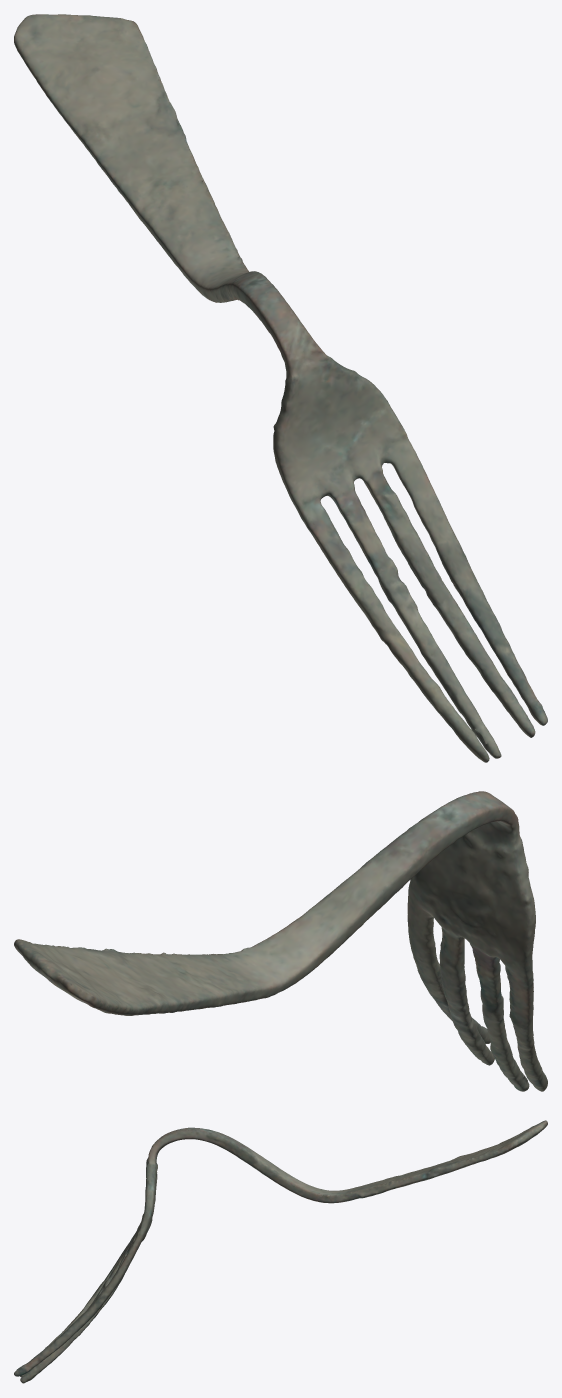
Rendered from Fork.fbx.
3 renders of one model, top to bottom at view 1: azimuth 30°, elevation 25°; view 2: azimuth 150°, elevation 25°; view 3: azimuth 270°, elevation 25°, orthographic. The views are drawn at different scales.
Parts seen in each view (by area): view 1: Treblinka 2017, Trench 11, Kuad 5 Sek 2, Layer 1002, Fork.ob; view 2: Treblinka 2017, Trench 11, Kuad 5 Sek 2, Layer 1002, Fork.ob; view 3: Treblinka 2017, Trench 11, Kuad 5 Sek 2, Layer 1002, Fork.ob.
Boxes of the visible parts, bbox=[...] form: Treblinka 2017, Trench 11, Kuad 5 Sek 2, Layer 1002, Fork.ob: bbox=[14, 14, 547, 762]; Treblinka 2017, Trench 11, Kuad 5 Sek 2, Layer 1002, Fork.ob: bbox=[14, 791, 547, 1091]; Treblinka 2017, Trench 11, Kuad 5 Sek 2, Layer 1002, Fork.ob: bbox=[14, 1120, 547, 1383].
Size of the model in its own units: 3097 by 7665 by 14598.
